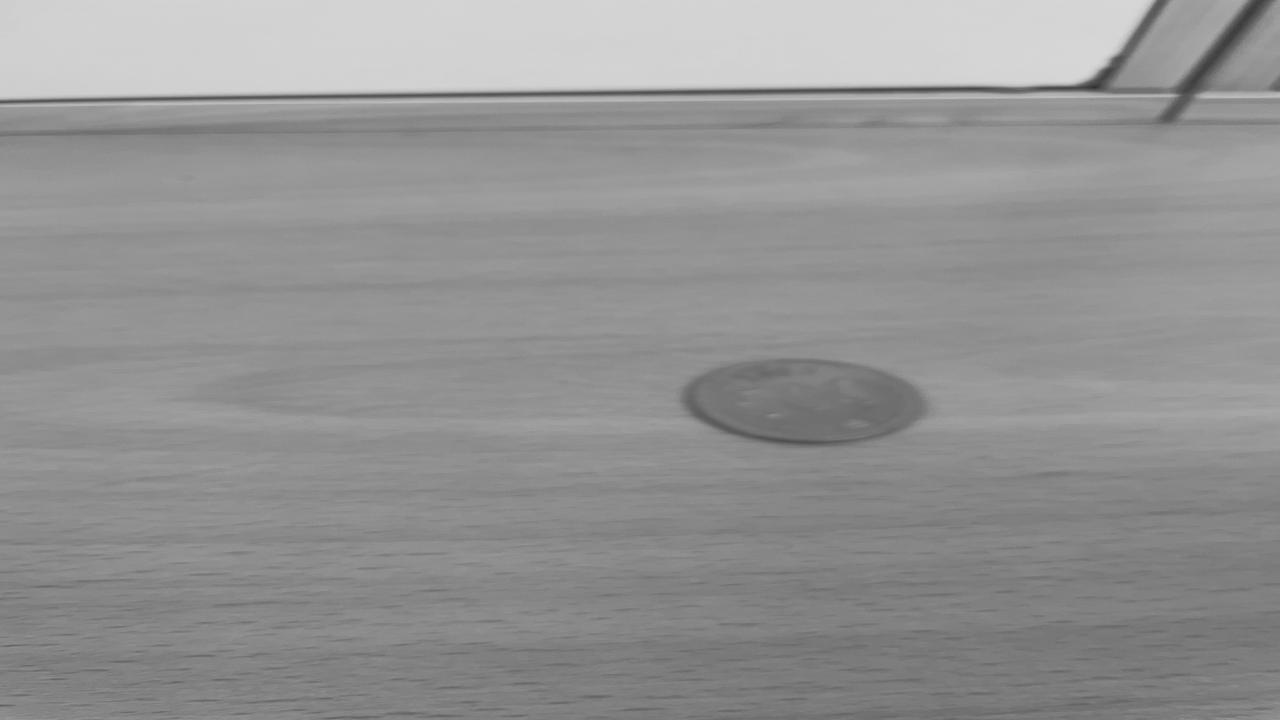coin: (687, 358, 923, 444)
